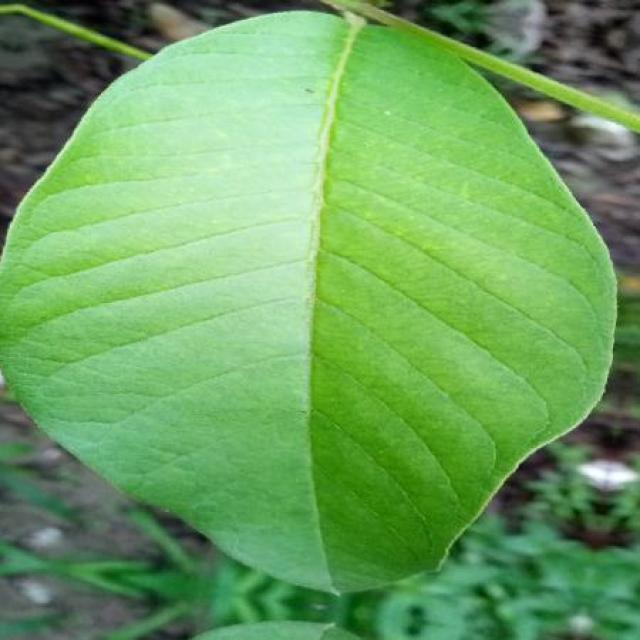Disease Free: (0, 4, 640, 592)
